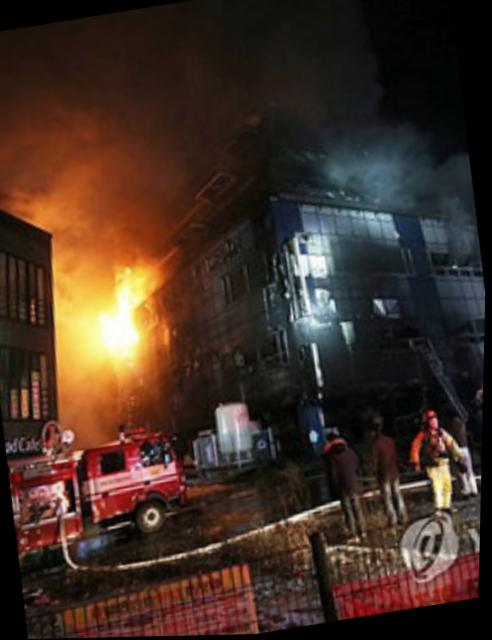fire: (89, 268, 151, 366)
